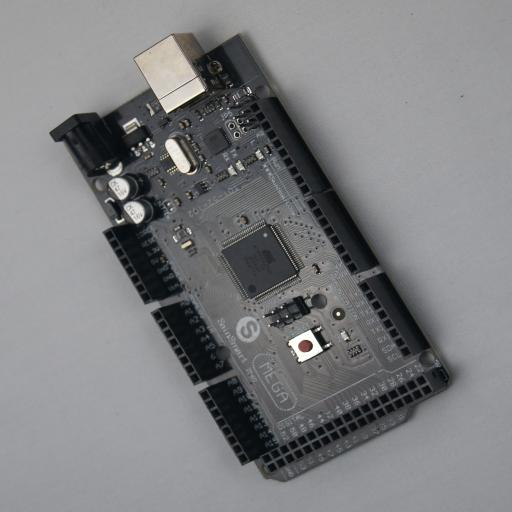Arduino Mega 2560 -Black-: (50, 33, 460, 482)
